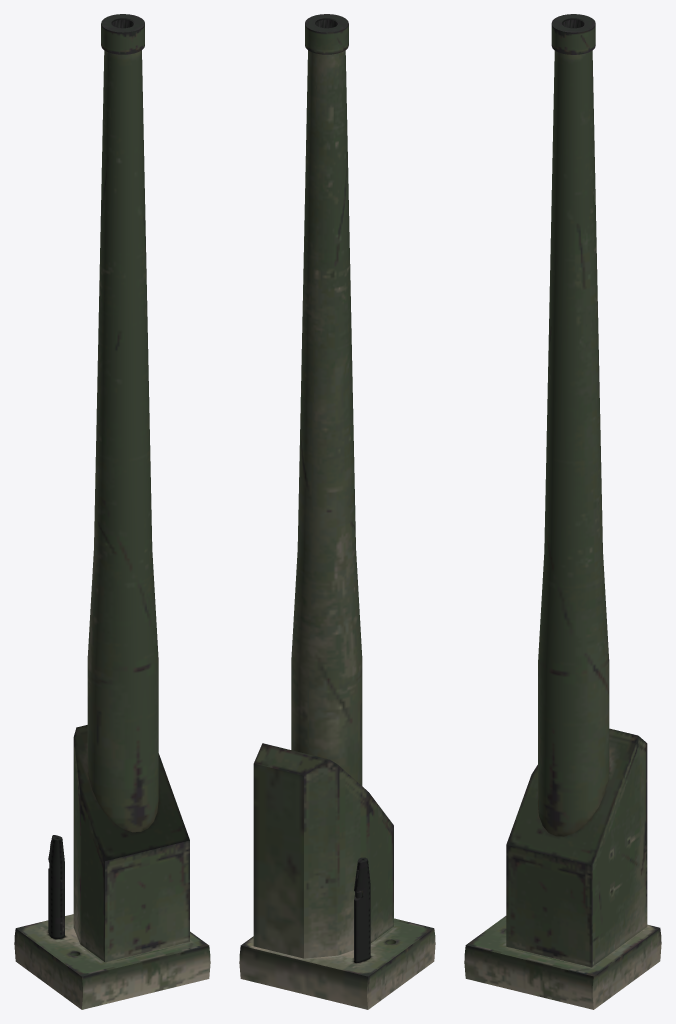
The model's file is Gun_04.glb.
The picture shows the model from 3 angles, left to right: view 1: azimuth 30°, elevation 25°; view 2: azimuth 150°, elevation 25°; view 3: azimuth 330°, elevation 25°; orthographic projection.
Parts seen in each view (by area): view 1: set_0_group_0; view 2: set_0_group_0; view 3: set_0_group_0.
Part boxes in pixels (x1,y1,x2,y2): set_0_group_0: (14,14,210,1009); set_0_group_0: (239,14,435,1009); set_0_group_0: (464,14,661,1009).
Bounding box in the file's own units: 0.6 × 4.25 × 0.56.
Materials: 1 (1 with a texture image).
